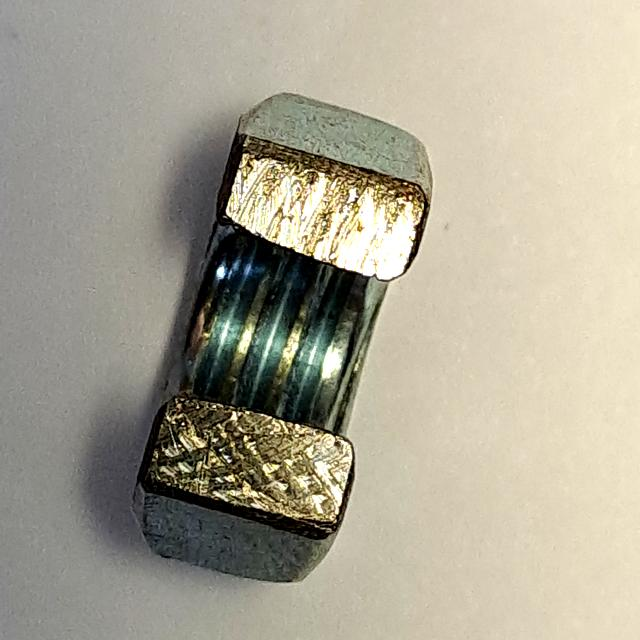Side-Fracture: (117, 85, 441, 596)
